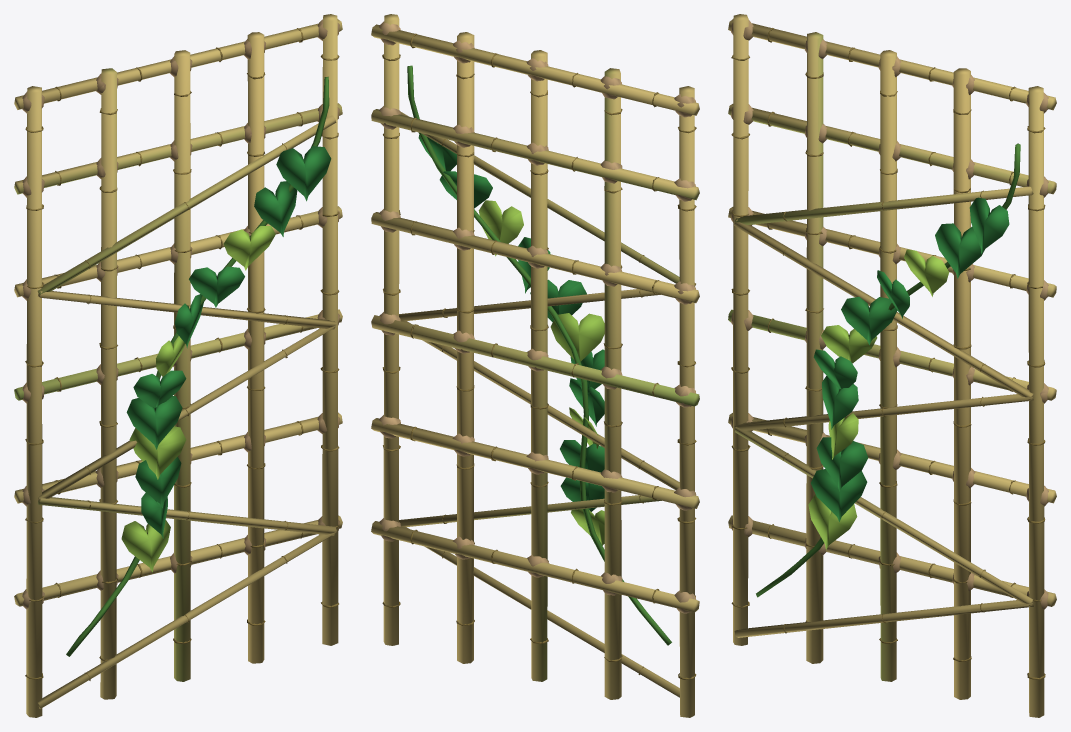
The model's file is canopy_trellis_lod1.glb.
3 renders of one model, left to right at view 1: azimuth 30°, elevation 25°; view 2: azimuth 150°, elevation 25°; view 3: azimuth 330°, elevation 25°, orthographic.
Parts seen in each view (by area): view 1: canopy_trellis.001; view 2: canopy_trellis.001; view 3: canopy_trellis.001.
Boxes of the visible parts, x1,y1,x2,y2 form: canopy_trellis.001: (14, 14, 342, 717); canopy_trellis.001: (371, 14, 699, 717); canopy_trellis.001: (728, 14, 1056, 717).
Bounding box in the file's own units: 14.4 × 26.7 × 2.24.
